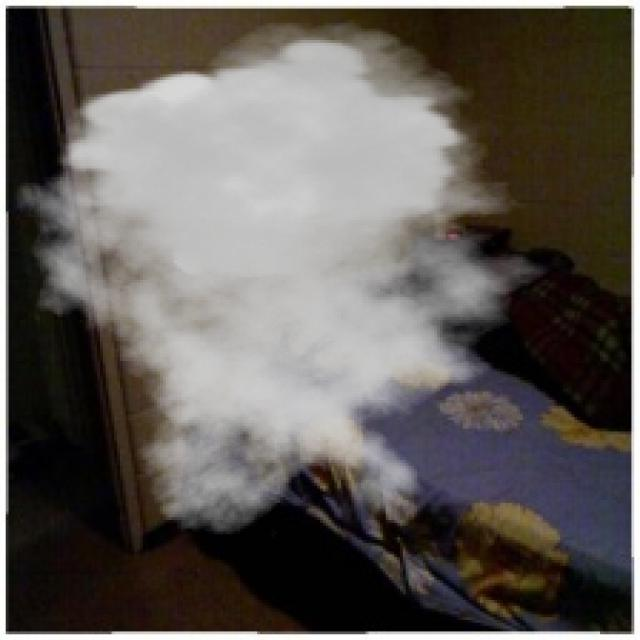smoke: (6, 20, 574, 537)
